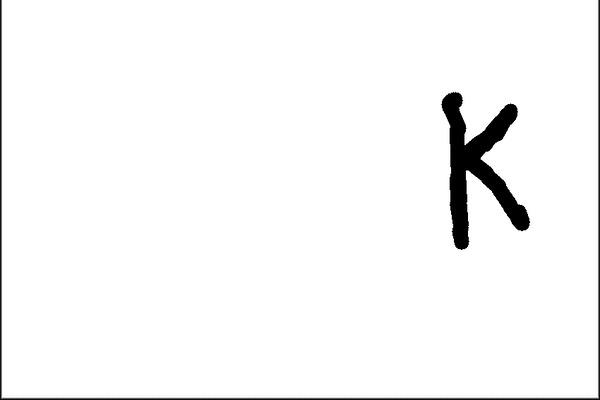K: (434, 81, 539, 250)
